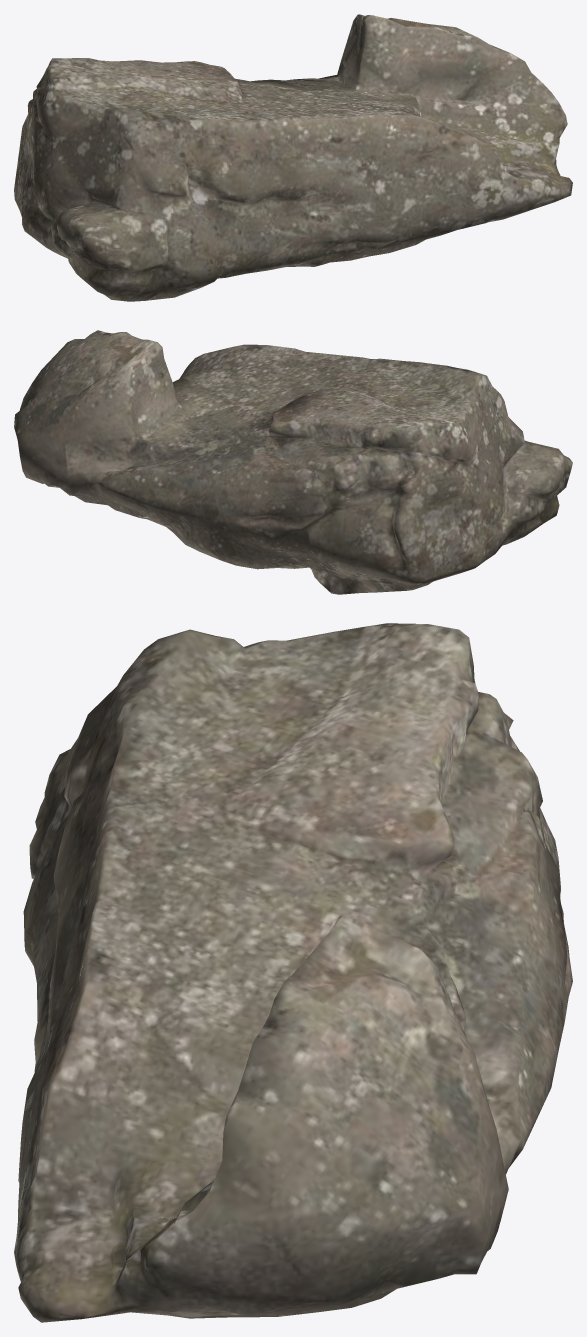
Rendered from boulder.glb.
3 renders of one model, top to bottom at view 1: azimuth 30°, elevation 25°; view 2: azimuth 150°, elevation 25°; view 3: azimuth 270°, elevation 25°, orthographic. The views are drawn at different scales.
Parts seen in each view (by area): view 1: Megascans boulder; view 2: Megascans boulder; view 3: Megascans boulder.
Boxes of the visible parts, <box> form: Megascans boulder: <box>14,14,572,301</box>; Megascans boulder: <box>14,330,572,594</box>; Megascans boulder: <box>14,623,572,1322</box>.
Size of the model in its own units: 5 by 1.82 by 2.47.
Materials: 1 (1 with a texture image).
